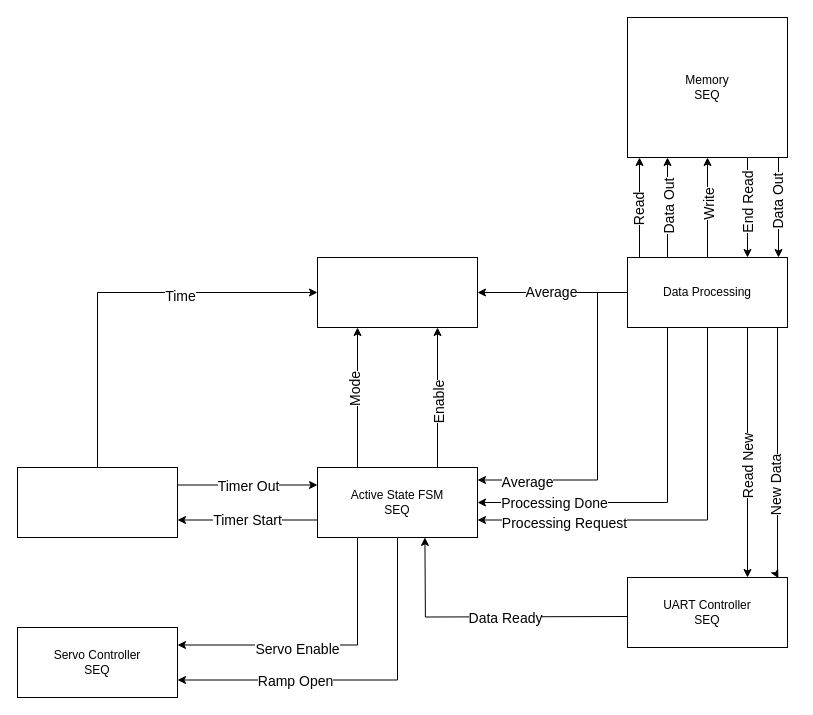
Image size: 813x715. Some labels were removed from this diagram. The shapes that lost their labels are listed below. From the top down, each one's centre as x and y in pixels, then its label:
(x=397, y=292): HEX Controller
(x=97, y=502): Timer SEQ
